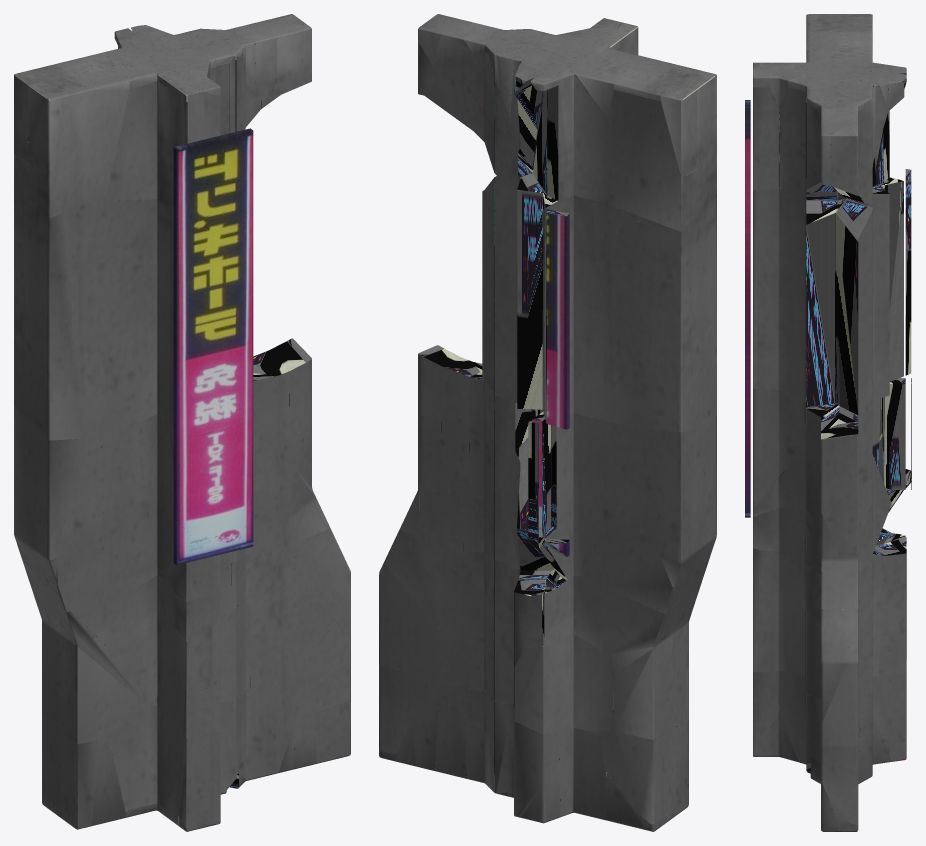
Rendered from shellyGebouw6.0 _Broken.fbx.
3 views of the same model, side by side, from view 1: azimuth 30°, elevation 25°; view 2: azimuth 150°, elevation 25°; view 3: azimuth 270°, elevation 25° (orthographic). The views are drawn at different scales.
Visible parts, largest first — view 1: Cube.017_cell.130, Cube.017_cell.045, Cube.017_cell.143, Cube.017_cell.065, Cube.017_cell.008, Cube.017_cell.108, Cube.017_cell.139, Cube.017_cell.040, Cube.017_cell.046, Cube.017_cell.010, Cube.017_cell.031, Cube.017_cell.020 (+58 smaller); view 2: Cube.017_cell.130, Cube.017_cell.165, Cube.017_cell.176, Cube.017_cell.171, Cube.017_cell.093, Cube.017_cell.162, Cube.017_cell.076, Cube.017_cell.052, Cube.017_cell.086, Cube.017_cell.119, Cube.017_cell.145, Cube.017_cell.132 (+55 smaller); view 3: Cube.017_cell.009, Cube.017_cell.093, Cube.017_cell.114, Cube.017_cell.135, Cube.017_cell.161, Cube.017_cell.162, Cube.017_cell.116, Cube.017_cell.165, Cube.017_cell.182, Cube.017_cell.039, Cube.017_cell.096, Cube.017_cell.157 (+57 smaller).
Part boxes in pixels (x1=…): Cube.017_cell.130: x1=14, y1=202, x2=103, y2=440; Cube.017_cell.045: x1=173, y1=208, x2=241, y2=443; Cube.017_cell.143: x1=103, y1=199, x2=160, y2=435; Cube.017_cell.065: x1=173, y1=419, x2=253, y2=556; Cube.017_cell.008: x1=53, y1=603, x2=147, y2=744; Cube.017_cell.108: x1=106, y1=81, x2=172, y2=207; Cube.017_cell.139: x1=47, y1=436, x2=103, y2=612; Cube.017_cell.040: x1=108, y1=706, x2=182, y2=810; Cube.017_cell.046: x1=238, y1=680, x2=301, y2=780; Cube.017_cell.010: x1=101, y1=423, x2=152, y2=558; Cube.017_cell.031: x1=28, y1=79, x2=63, y2=218; Cube.017_cell.020: x1=73, y1=68, x2=129, y2=204; Cube.017_cell.130: x1=636, y1=193, x2=716, y2=432; Cube.017_cell.165: x1=542, y1=191, x2=635, y2=426; Cube.017_cell.176: x1=607, y1=90, x2=702, y2=231; Cube.017_cell.171: x1=535, y1=409, x2=627, y2=578; Cube.017_cell.093: x1=482, y1=175, x2=513, y2=401; Cube.017_cell.162: x1=514, y1=173, x2=543, y2=409; Cube.017_cell.076: x1=598, y1=426, x2=658, y2=585; Cube.017_cell.052: x1=469, y1=372, x2=535, y2=505; Cube.017_cell.086: x1=546, y1=209, x2=569, y2=429; Cube.017_cell.119: x1=379, y1=562, x2=442, y2=681; Cube.017_cell.145: x1=600, y1=726, x2=679, y2=824; Cube.017_cell.132: x1=558, y1=634, x2=613, y2=734; Cube.017_cell.009: x1=790, y1=193, x2=837, y2=407; Cube.017_cell.093: x1=835, y1=199, x2=872, y2=414; Cube.017_cell.114: x1=758, y1=188, x2=790, y2=394; Cube.017_cell.135: x1=821, y1=434, x2=858, y2=553; Cube.017_cell.161: x1=753, y1=388, x2=801, y2=509; Cube.017_cell.162: x1=872, y1=185, x2=889, y2=400; Cube.017_cell.116: x1=765, y1=551, x2=803, y2=671; Cube.017_cell.165: x1=879, y1=177, x2=903, y2=381; Cube.017_cell.182: x1=779, y1=87, x2=806, y2=197; Cube.017_cell.039: x1=753, y1=68, x2=779, y2=190; Cube.017_cell.096: x1=872, y1=672, x2=906, y2=761; Cube.017_cell.157: x1=821, y1=746, x2=858, y2=825.
Size of the model in its own units: 2346 by 5326 by 1186.
